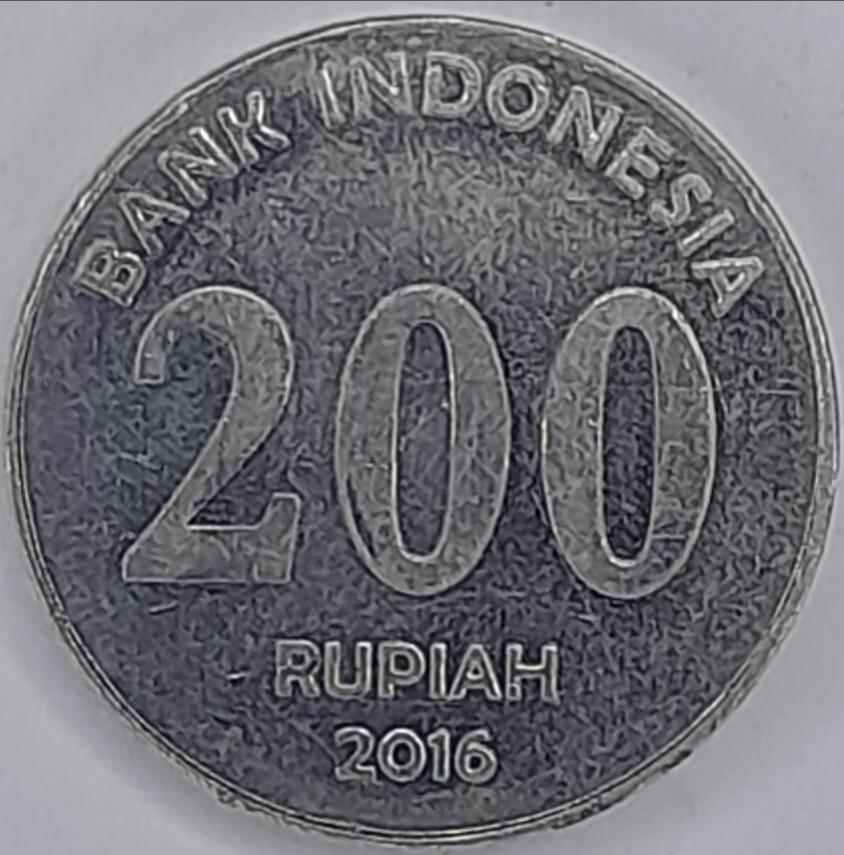coin_200_e2016: (0, 15, 844, 855)
